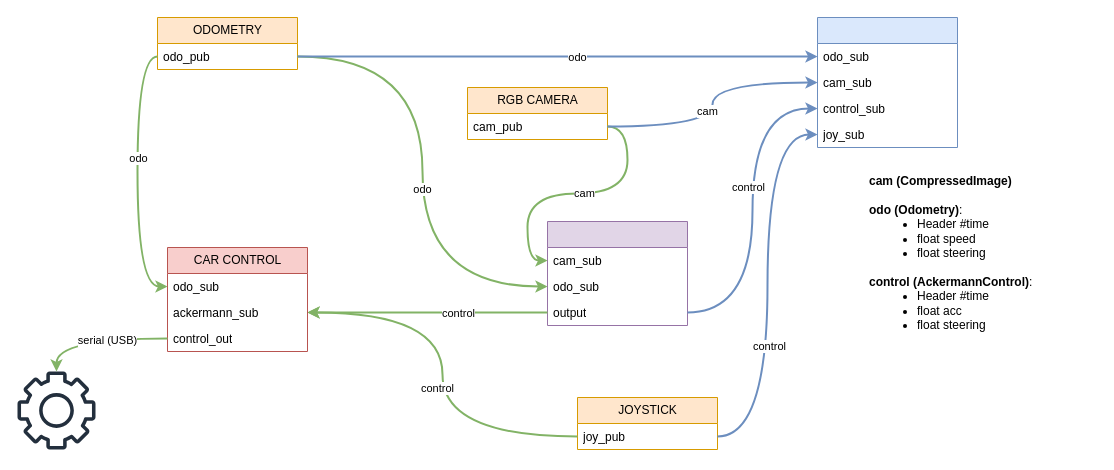
The diagram is 1114 pixels wide and 470 high, and some of its shapes have lost their labels. The shapes that lost their labels are listed below. From the top down, each one's box as (x1, y1, x2, y2) in pixels, then its label:
(816, 16, 958, 148): PC (INFO)
(546, 220, 688, 326): AI MODEL
